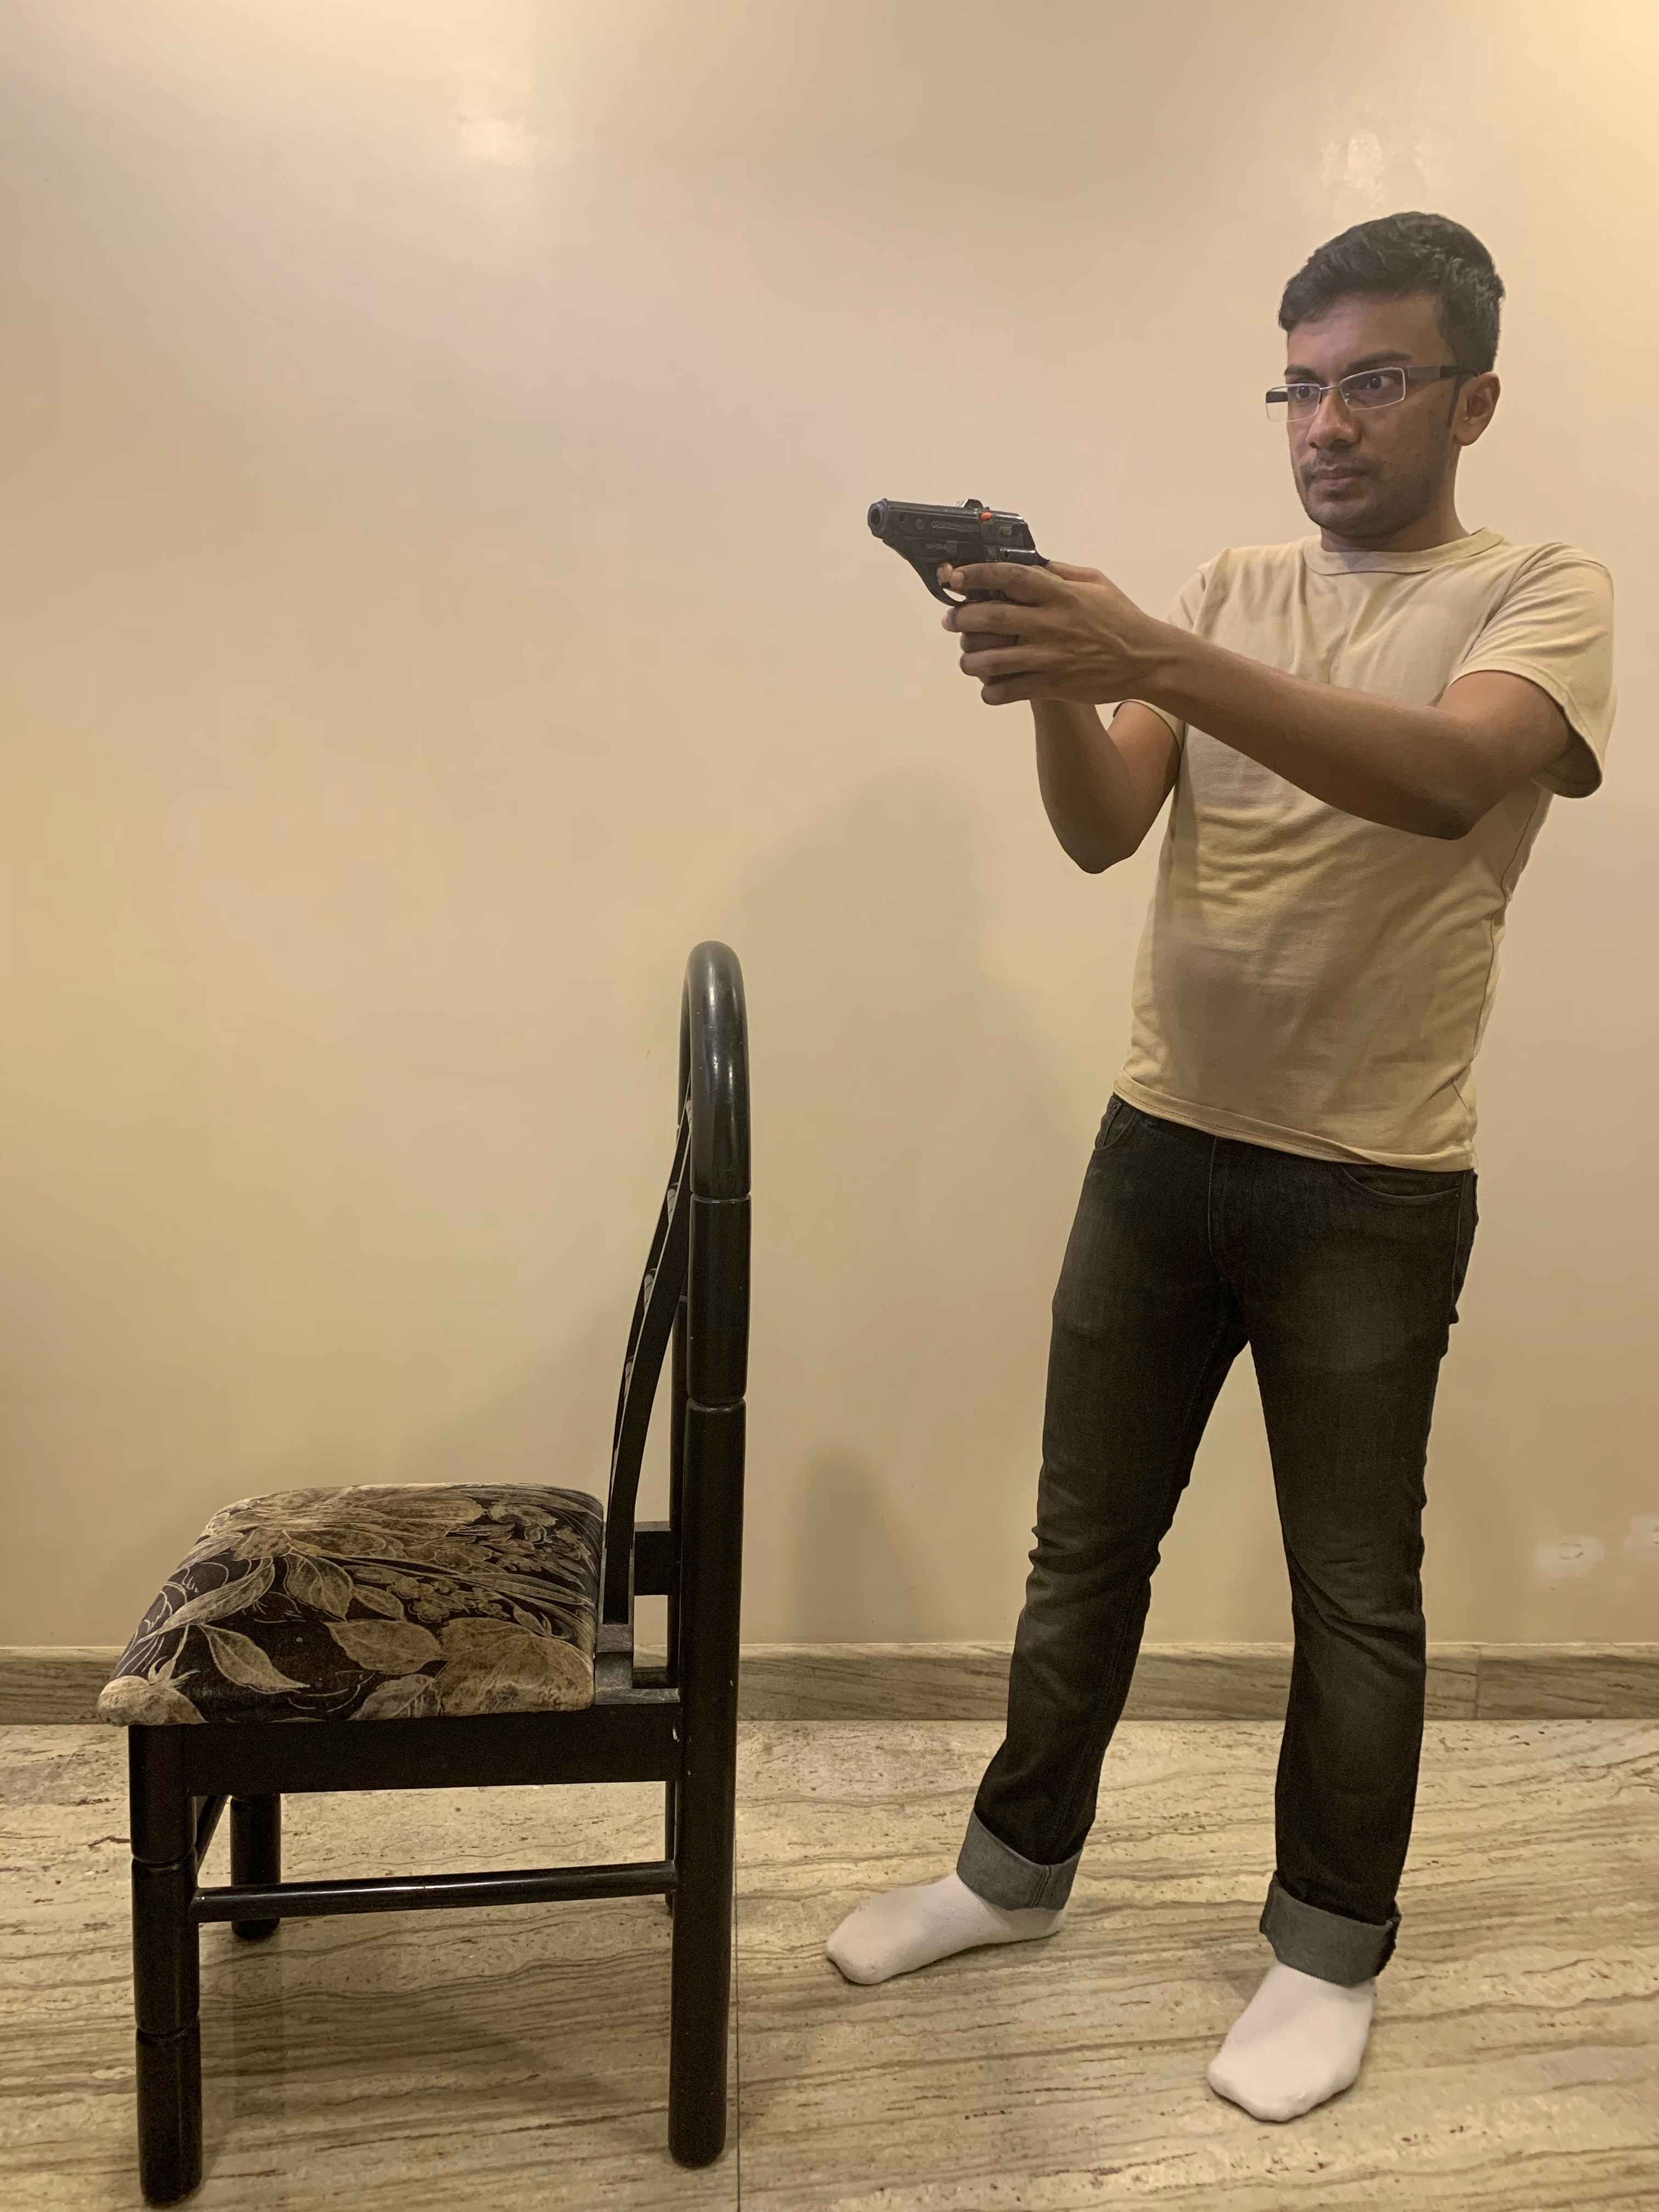gun: (863, 488, 1049, 643)
